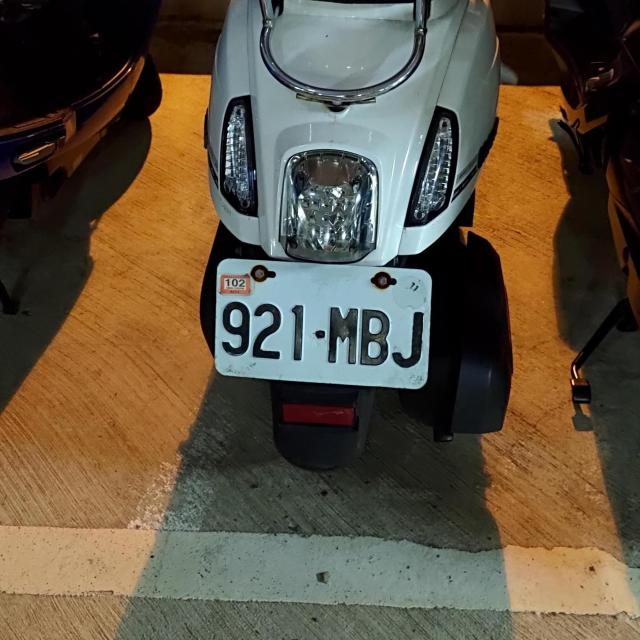W: (212, 257, 435, 388)
